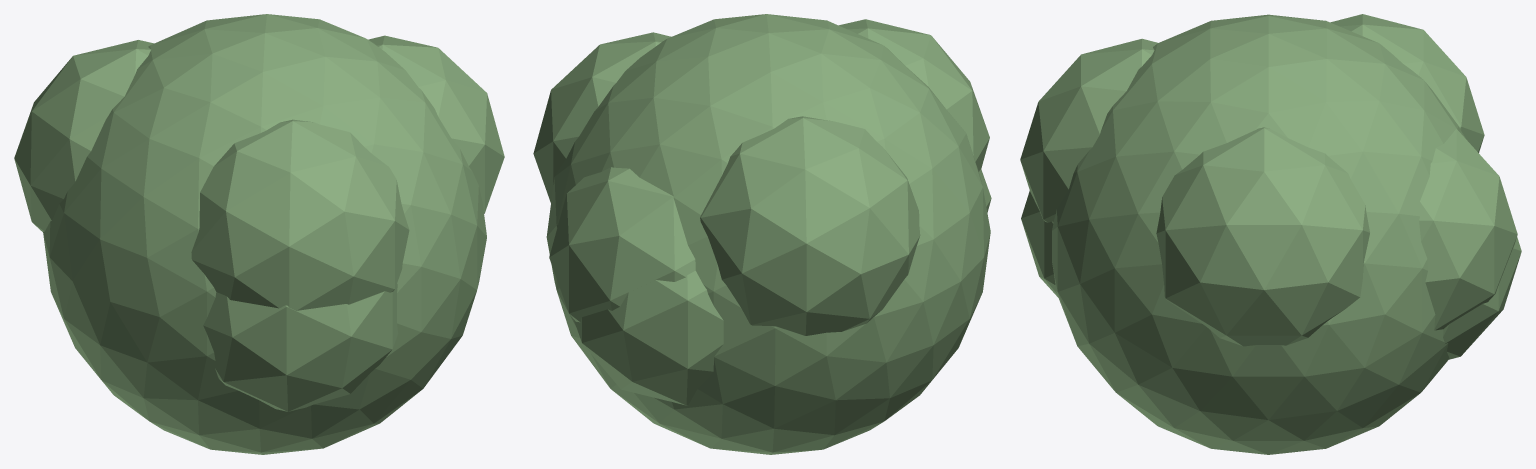
Rendered from bush_s.glb.
3 renders of one model, left to right at view 1: azimuth 30°, elevation 25°; view 2: azimuth 150°, elevation 25°; view 3: azimuth 270°, elevation 25°, orthographic.
Parts seen in each view (by area): view 1: bush_s_hedge; view 2: bush_s_hedge; view 3: bush_s_hedge.
Boxes of the visible parts, <box> form: bush_s_hedge: <box>14,14,504,454</box>; bush_s_hedge: <box>533,14,991,454</box>; bush_s_hedge: <box>1020,14,1521,454</box>.
Bounding box in the file's own units: 0.7524 × 0.7 × 0.7919.
